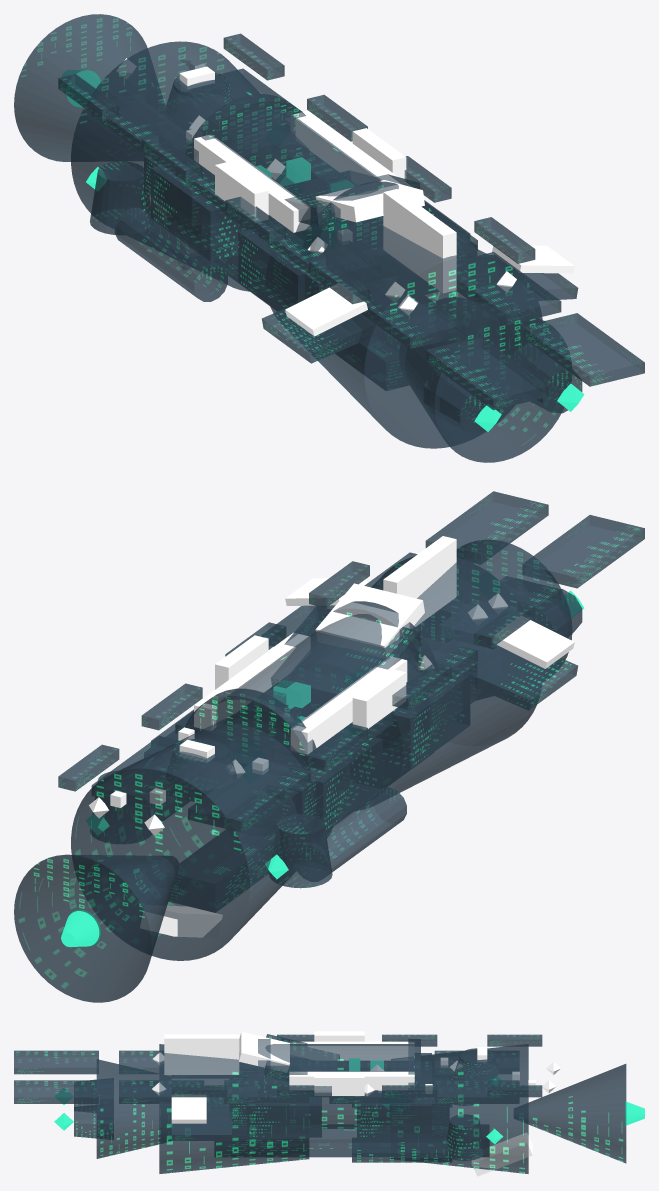
Rendered from galere.glb.
3 views of the same model, one above another, from view 1: azimuth 30°, elevation 25°; view 2: azimuth 150°, elevation 25°; view 3: azimuth 270°, elevation 25° (orthographic). The views are drawn at different scales.
Visible parts, largest first — view 1: guerrier; view 2: guerrier; view 3: guerrier.
Boxes of the visible parts, x1,y1,x2,y2 form: guerrier: [14, 14, 644, 462]; guerrier: [14, 491, 644, 1002]; guerrier: [14, 1031, 644, 1176].
Size of the model in its own units: 0.7805 by 0.5944 by 2.52.
